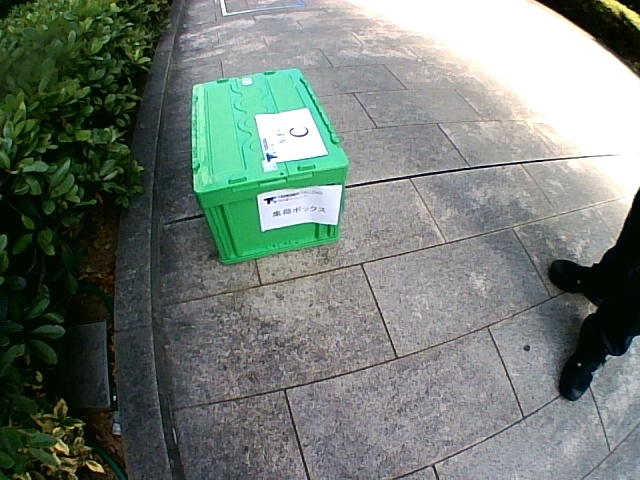blue_box: (191, 68, 349, 265)
tag_c: (266, 115, 314, 159)
